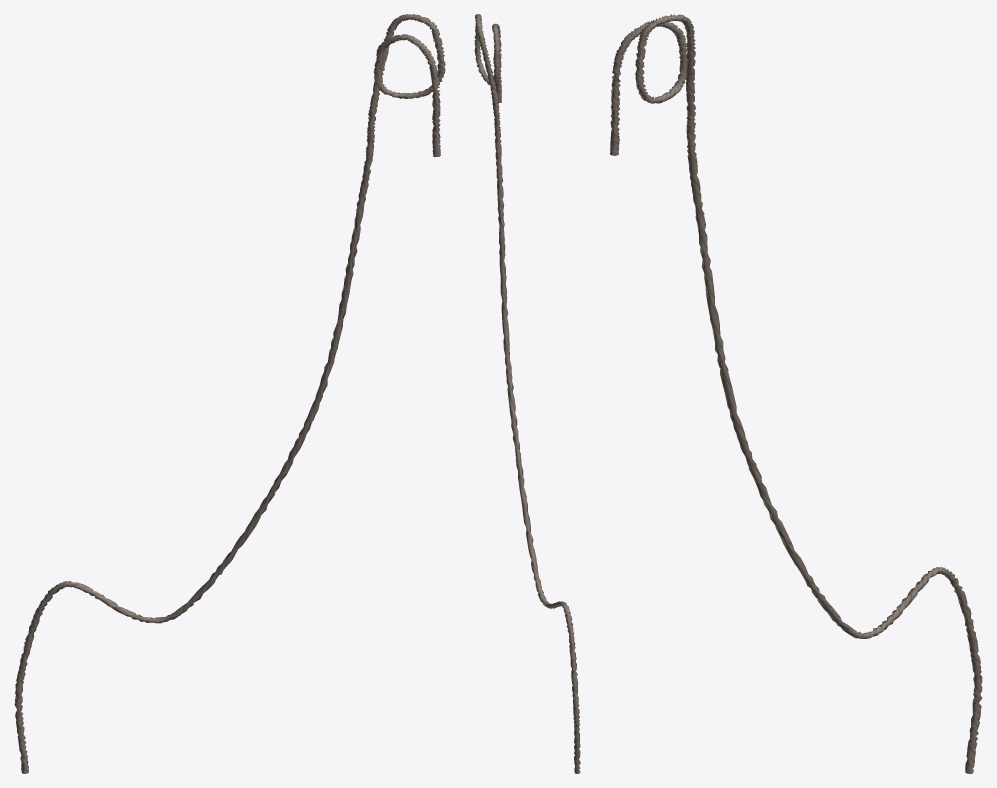
File: SM_RopeSplineMesh_Splines_19.fbx
3 views of the same model, side by side, from view 1: azimuth 30°, elevation 25°; view 2: azimuth 150°, elevation 25°; view 3: azimuth 270°, elevation 25° (orthographic). The views are drawn at different scales.
Visible parts, largest first — view 1: SM_RopeSplineMesh_Splines_19; view 2: SM_RopeSplineMesh_Splines_19; view 3: SM_RopeSplineMesh_Splines_19.
Part boxes in pixels (x1,y1,x2,y2): SM_RopeSplineMesh_Splines_19: (14, 14, 445, 773); SM_RopeSplineMesh_Splines_19: (474, 14, 580, 773); SM_RopeSplineMesh_Splines_19: (610, 14, 982, 773).
Size of the model in its own units: 162 by 164 by 436.
